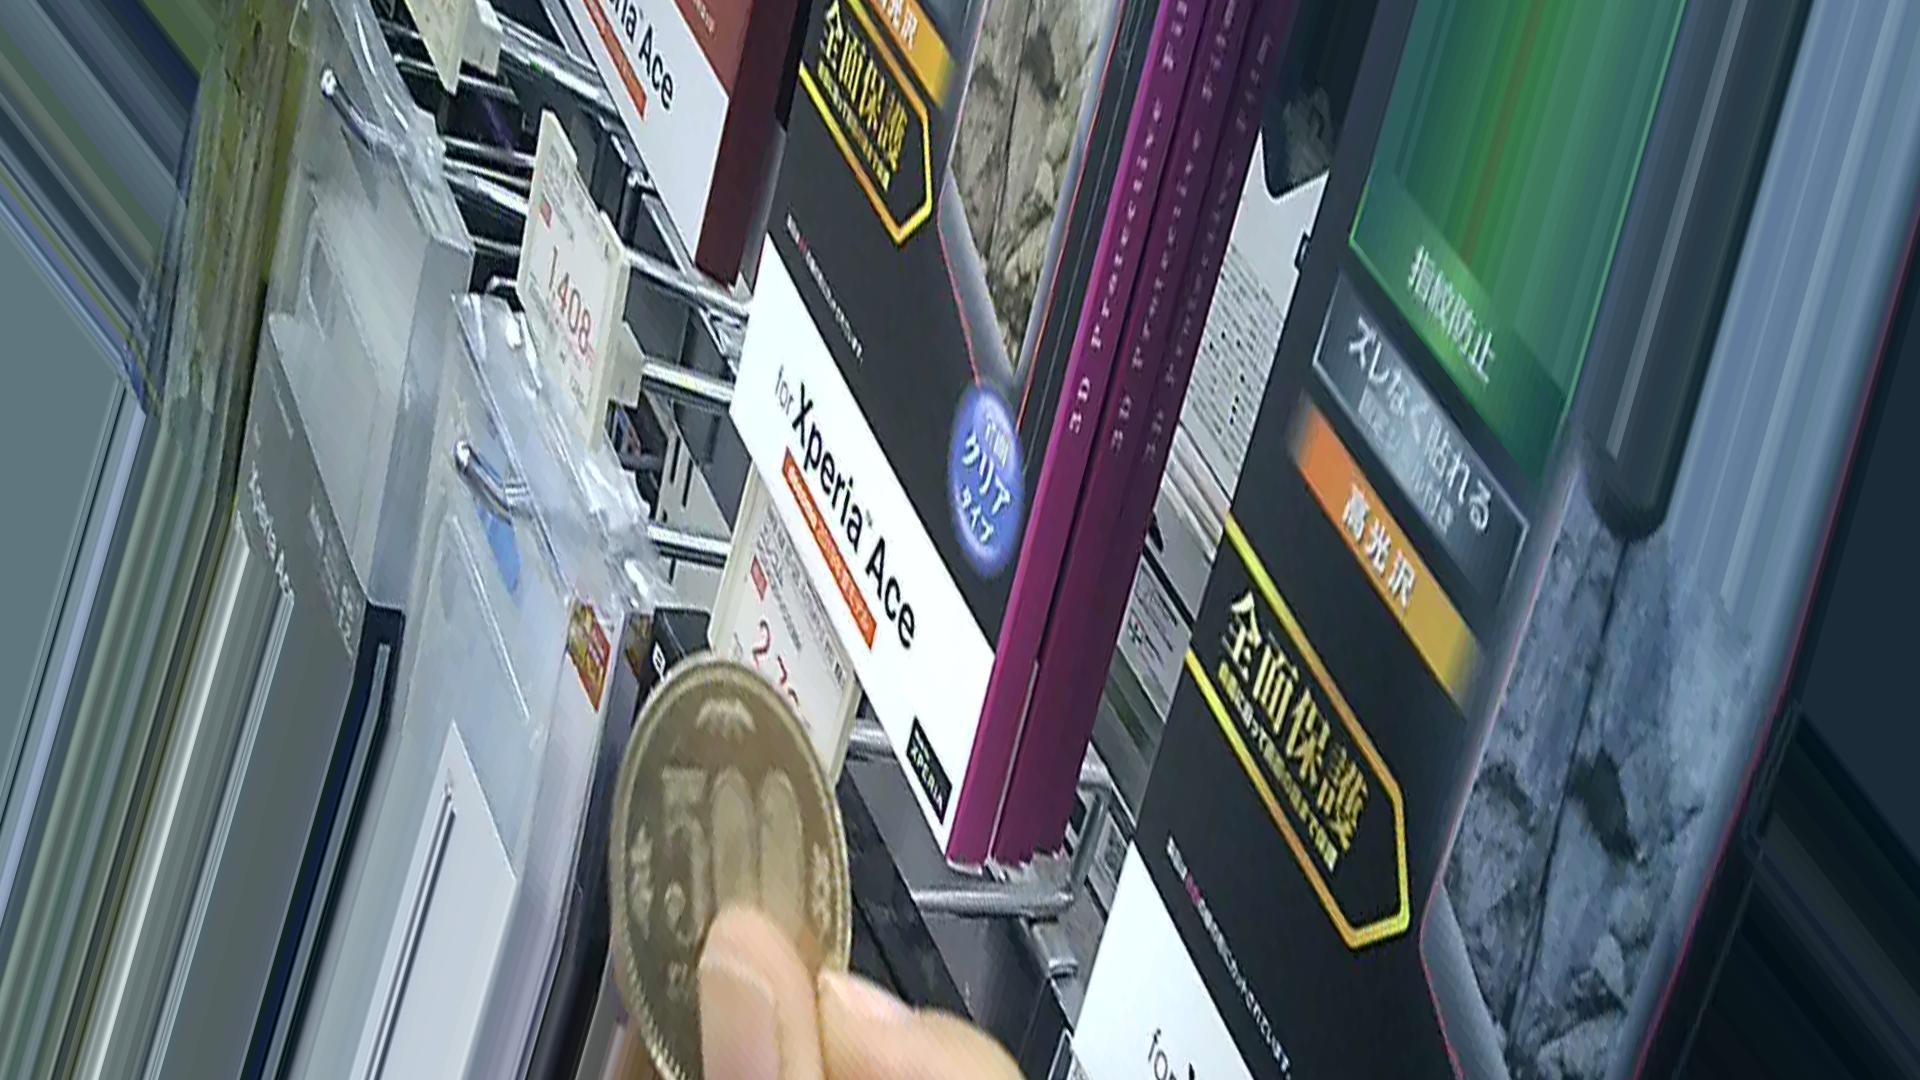500 Yen: (607, 651, 849, 1077)
